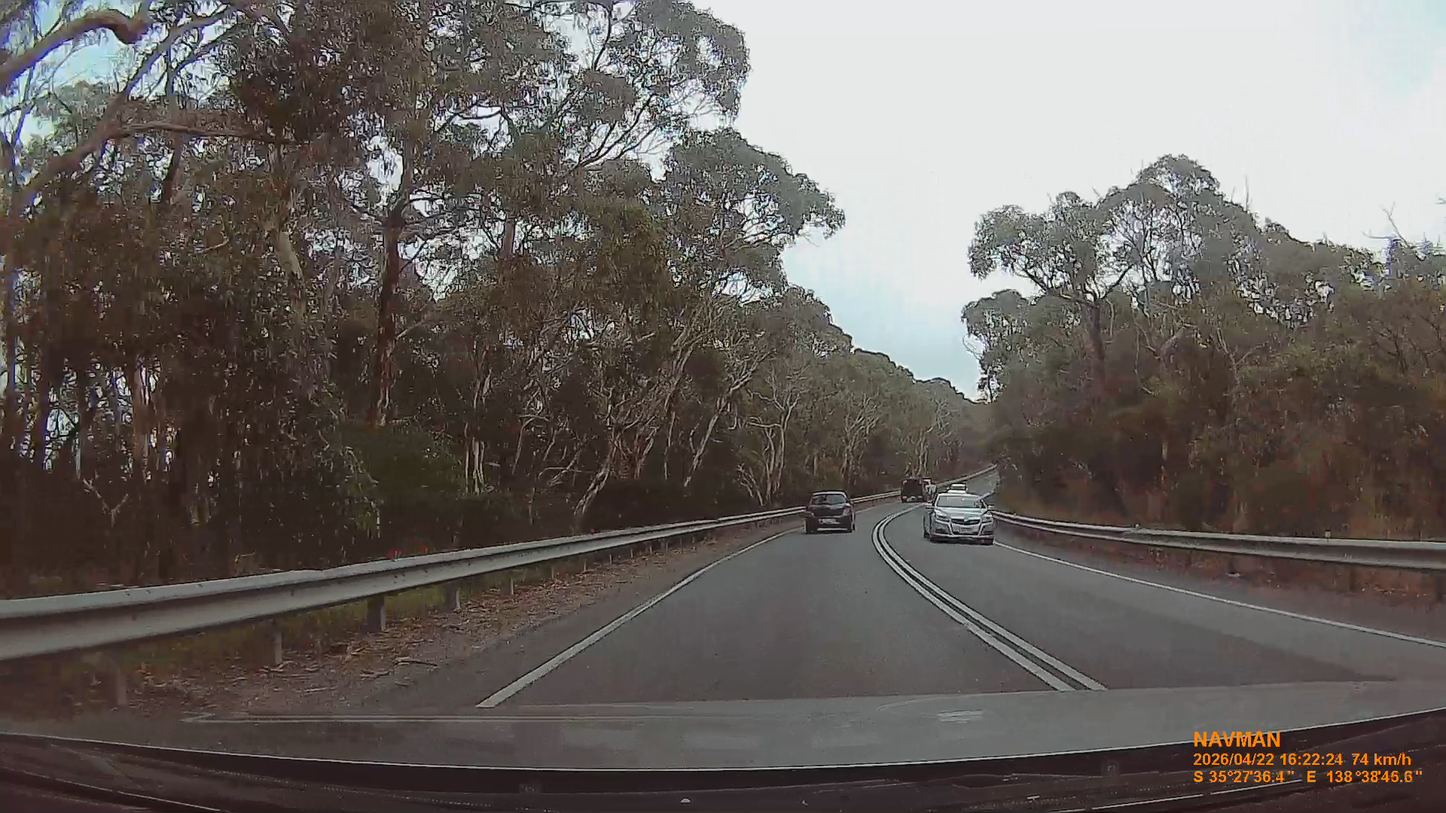road barriers: (5, 507, 801, 665), (995, 511, 1446, 574)
